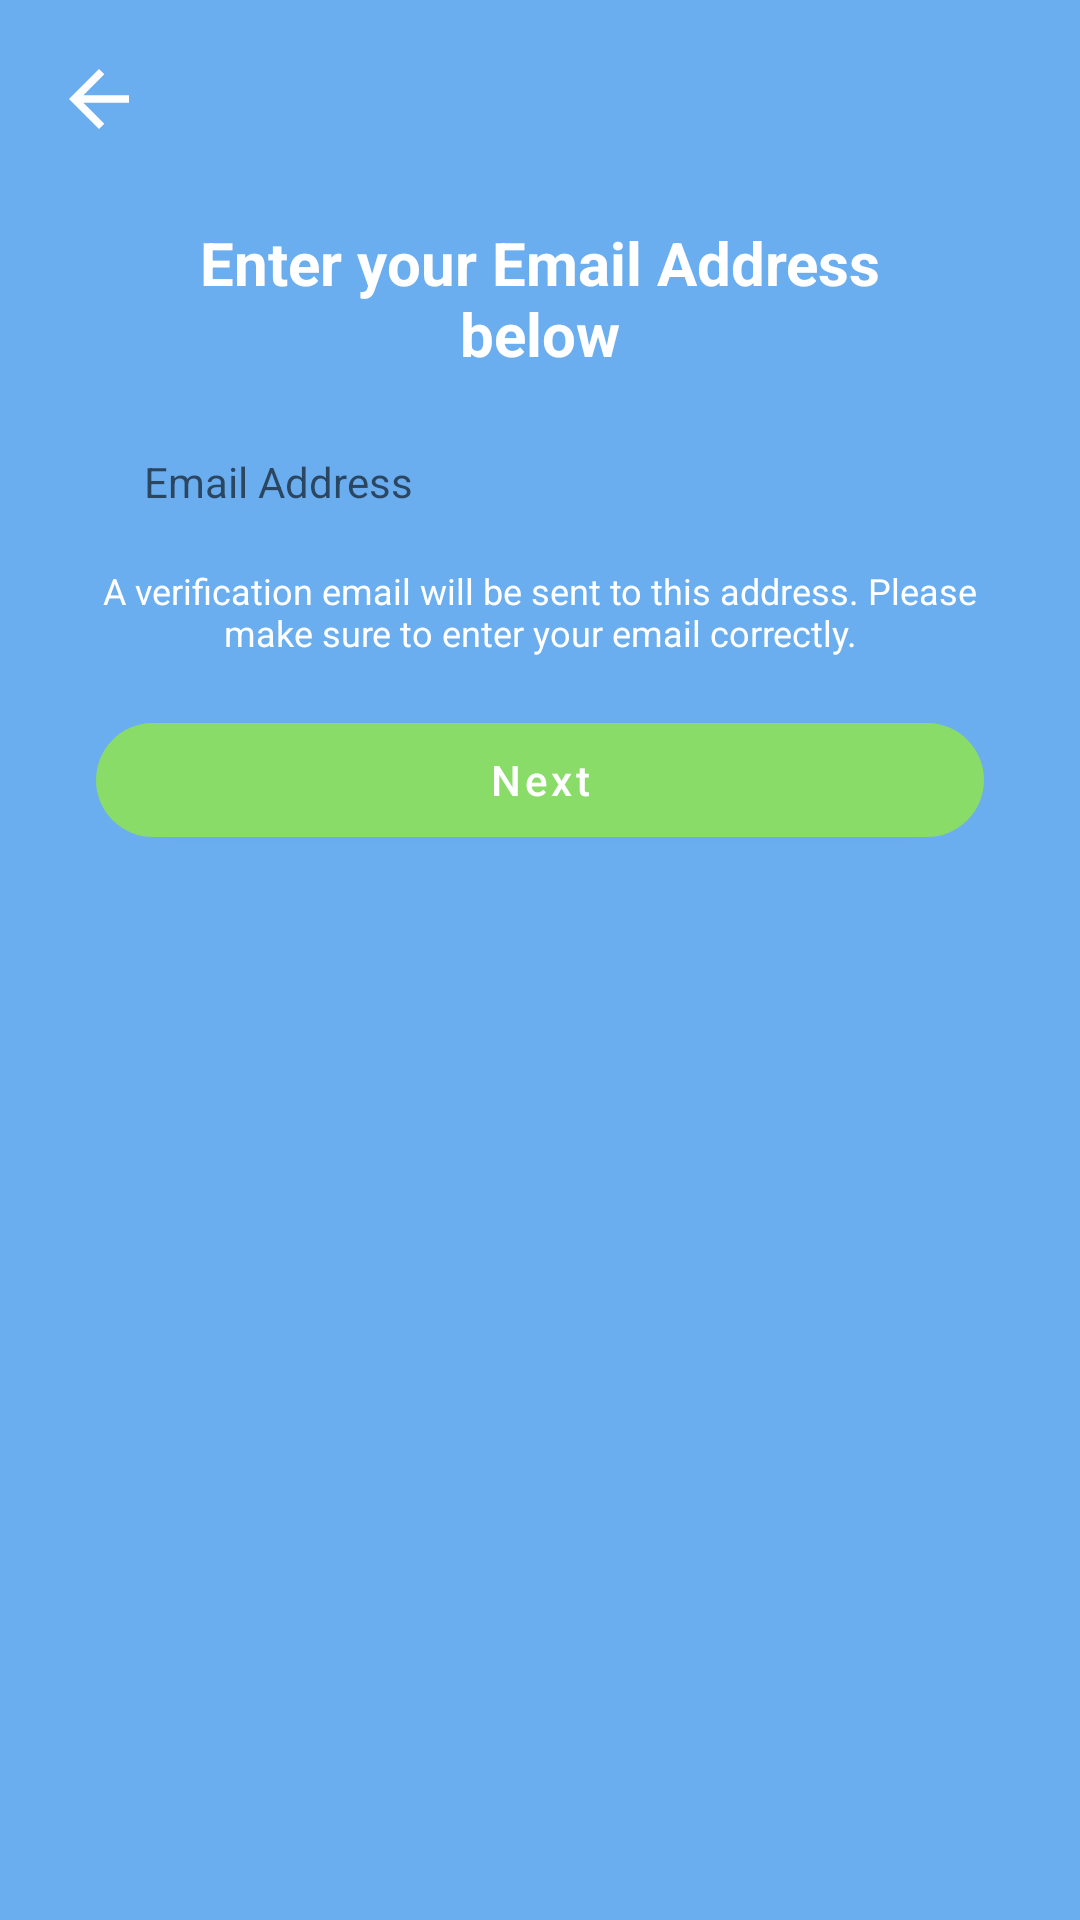

Screen size 1080 x 1920. Icon name, then its center in pixels as point (x, y):
Back: point (99, 99)
